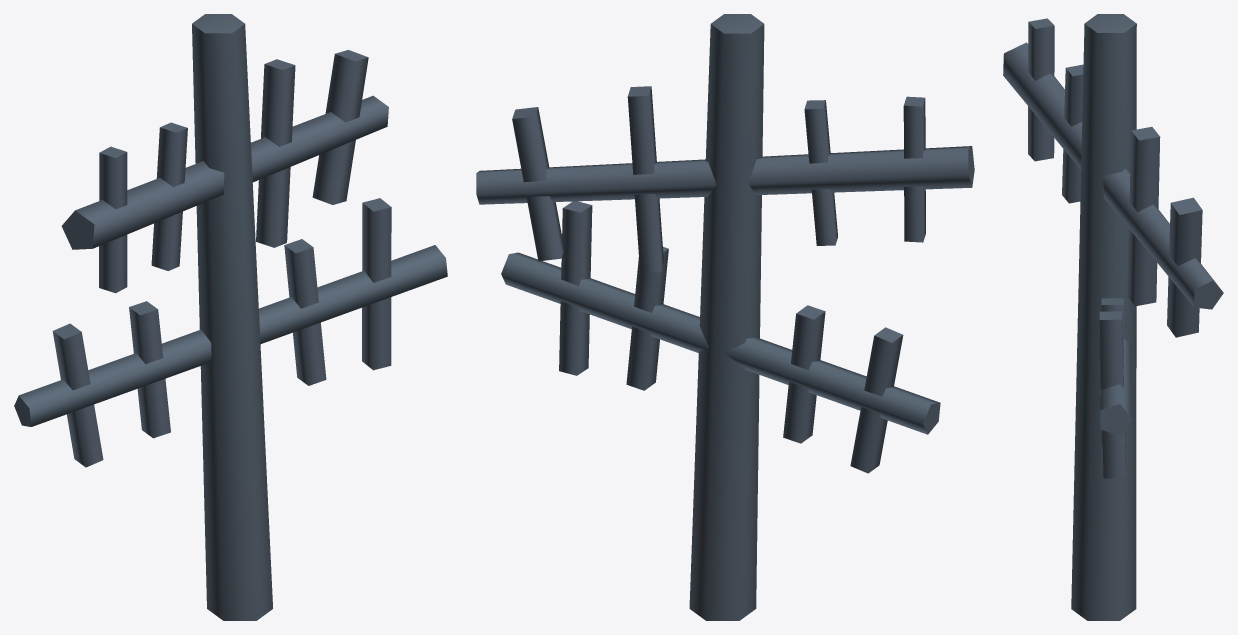
File: Antene_1_B_1.fbx
3 renders of one model, left to right at view 1: azimuth 30°, elevation 25°; view 2: azimuth 150°, elevation 25°; view 3: azimuth 270°, elevation 25°, orthographic. The views are drawn at different scales.
Parts seen in each view (by area): view 1: Antene_1_B_1; view 2: Antene_1_B_1; view 3: Antene_1_B_1.
Boxes of the visible parts, x1,y1,x2,y2 form: Antene_1_B_1: (14, 14, 447, 620); Antene_1_B_1: (476, 14, 974, 620); Antene_1_B_1: (1003, 14, 1223, 620).
Bounding box in the file's own units: 67.19 × 90.15 × 31.08.
